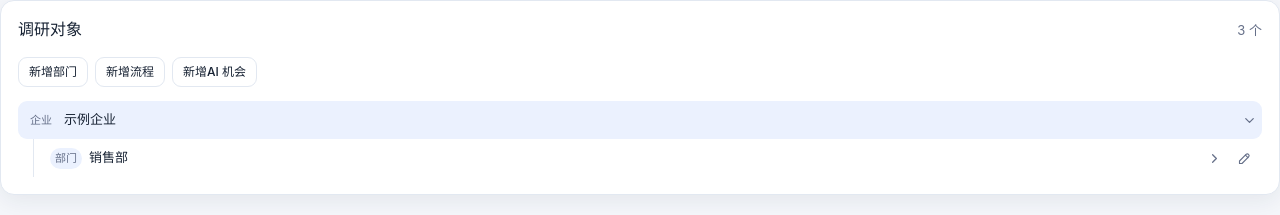
Test: research subject tree rename actions › expands only the first level by default and preserves manual collapse
Expected: the list item "部门 销售部" is shown, [43,139,1197,177]
Click the button named "收起示例企业的下级" at (1249, 120), box [1236,107,1262,133]
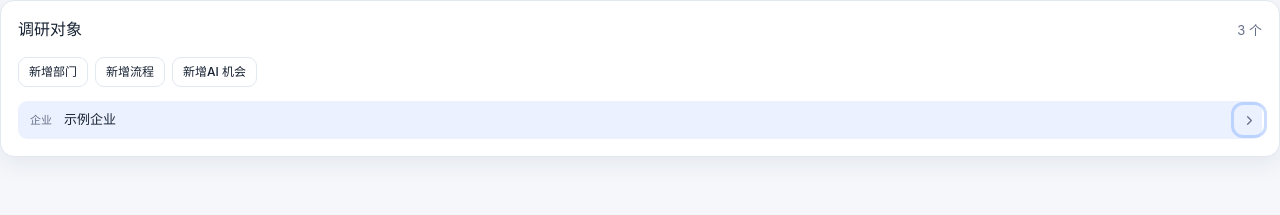
Now the list item "销售部" is gone
Click the button named "展开示例企业的下级" at (1249, 120), box [1236,107,1262,133]
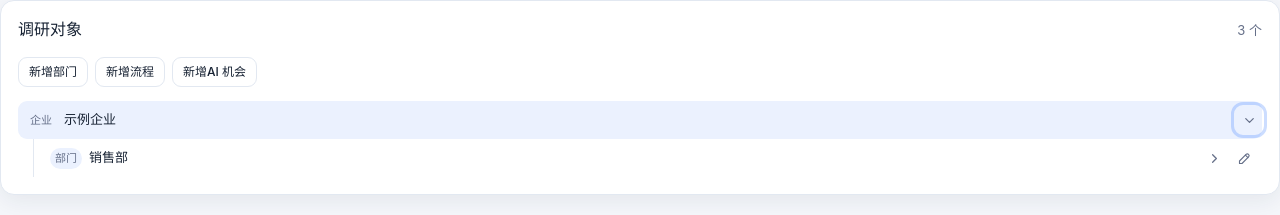
Now the list item "部门 销售部" is shown, box [43,139,1197,177]
